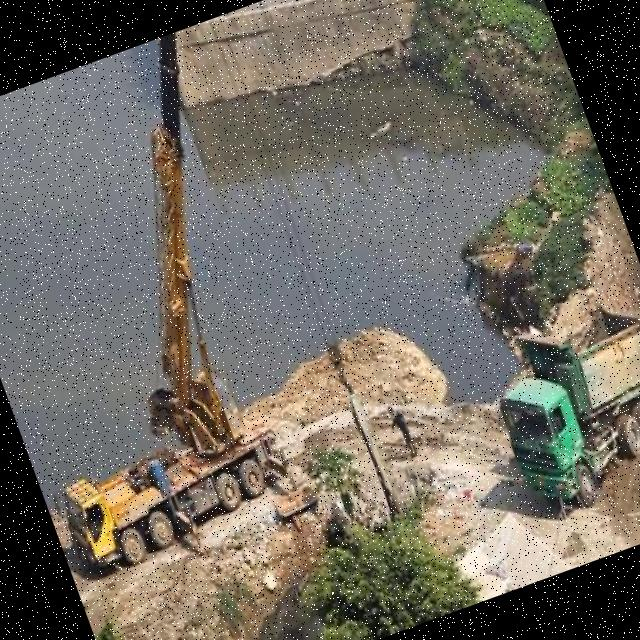Dump Truck: (474, 291, 640, 521)
Mobile Crane: (0, 26, 358, 582)
